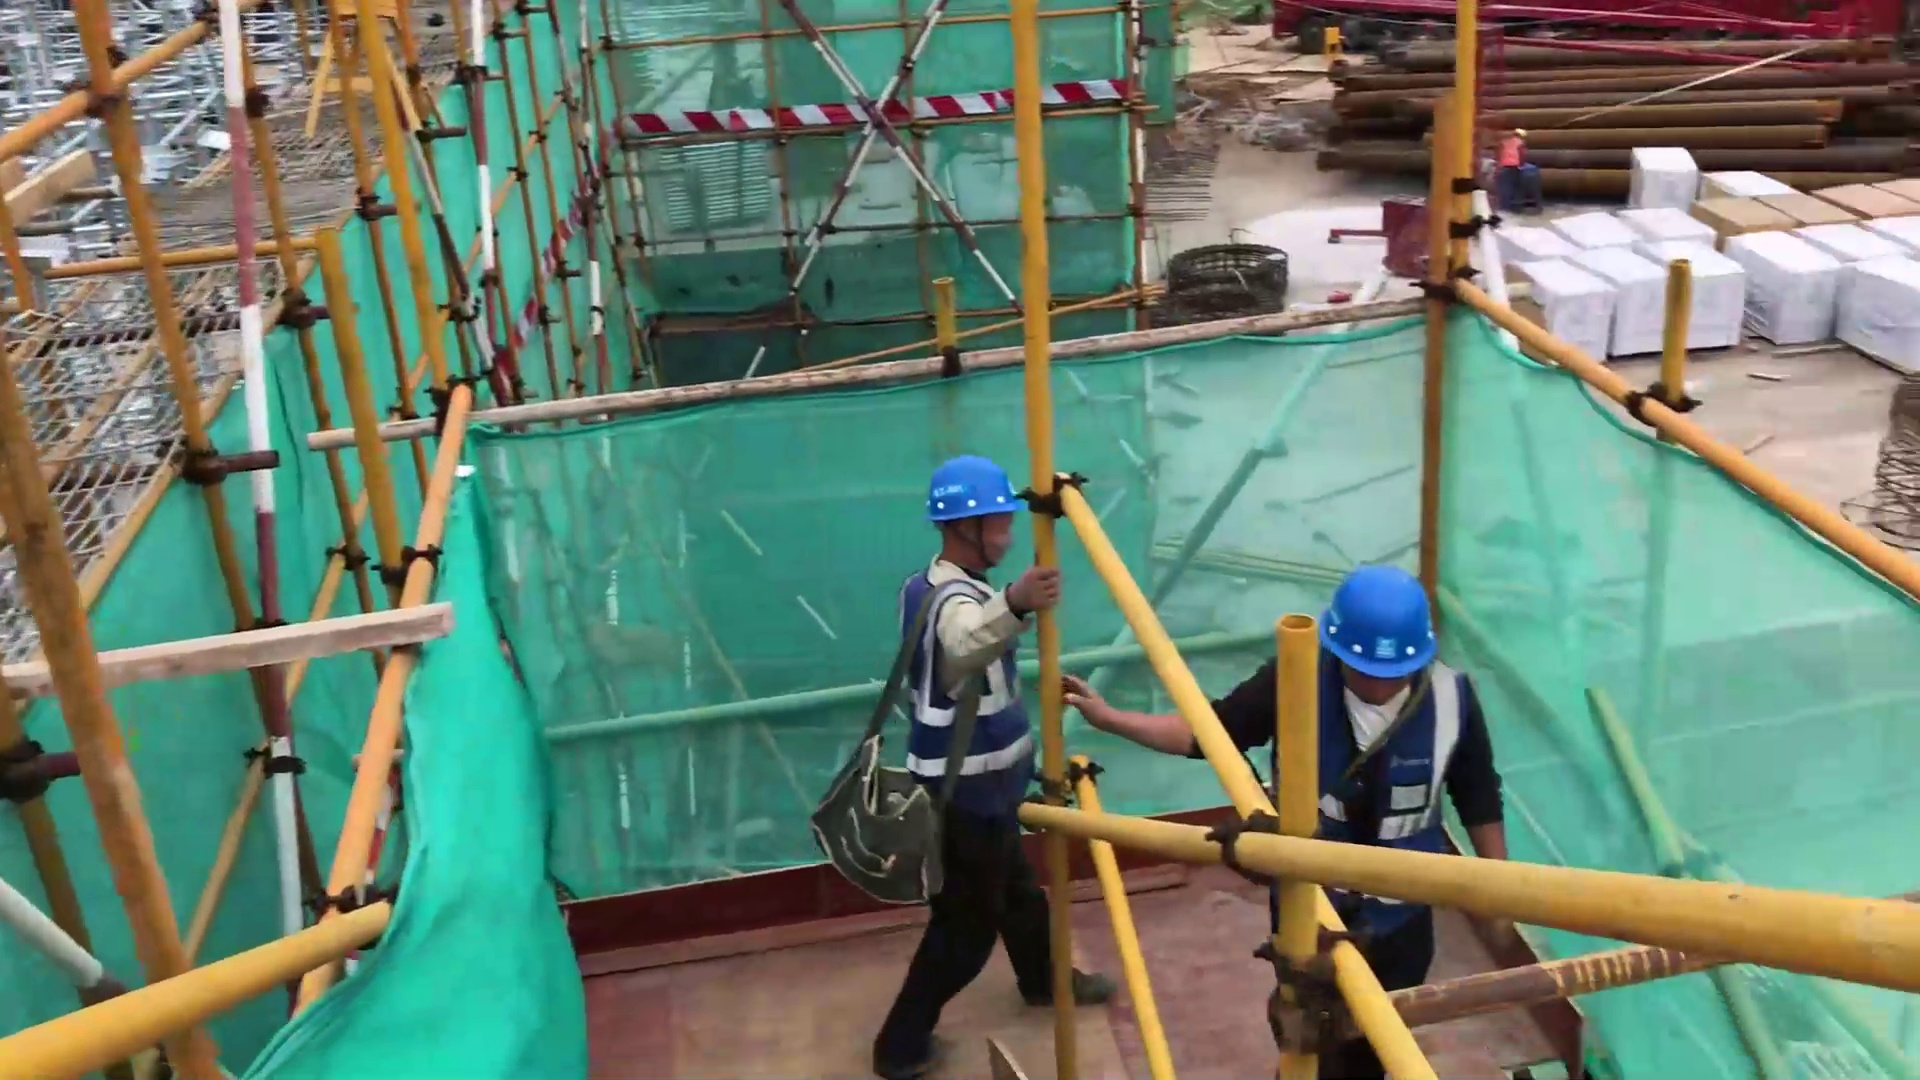helmet: (1321, 562, 1441, 681), (920, 455, 1027, 521)
person: (1066, 557, 1534, 1065), (801, 456, 1138, 1067), (1491, 122, 1545, 213)
vest: (882, 563, 1044, 815), (1318, 660, 1469, 845)
